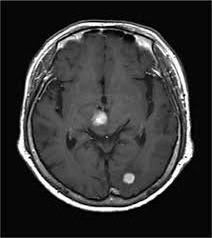Normal_Brain: (2, 3, 212, 238)
